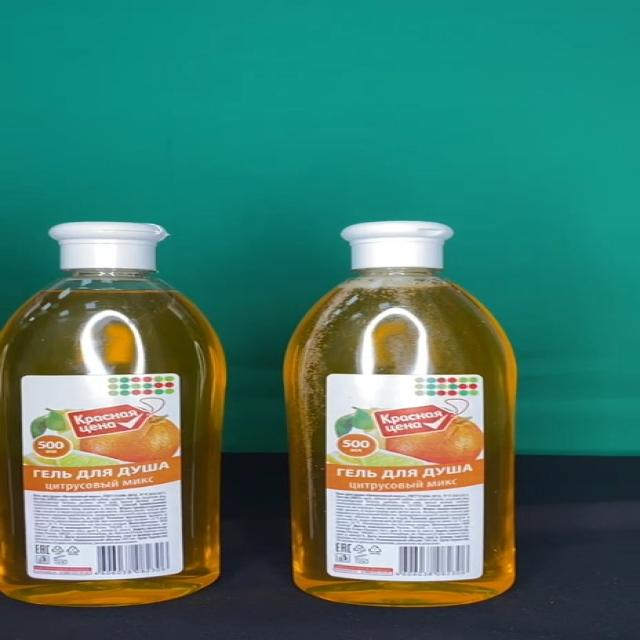Bottle: (281, 220, 516, 607), (0, 220, 225, 607)
Cap: (47, 222, 170, 270), (340, 221, 454, 269)
